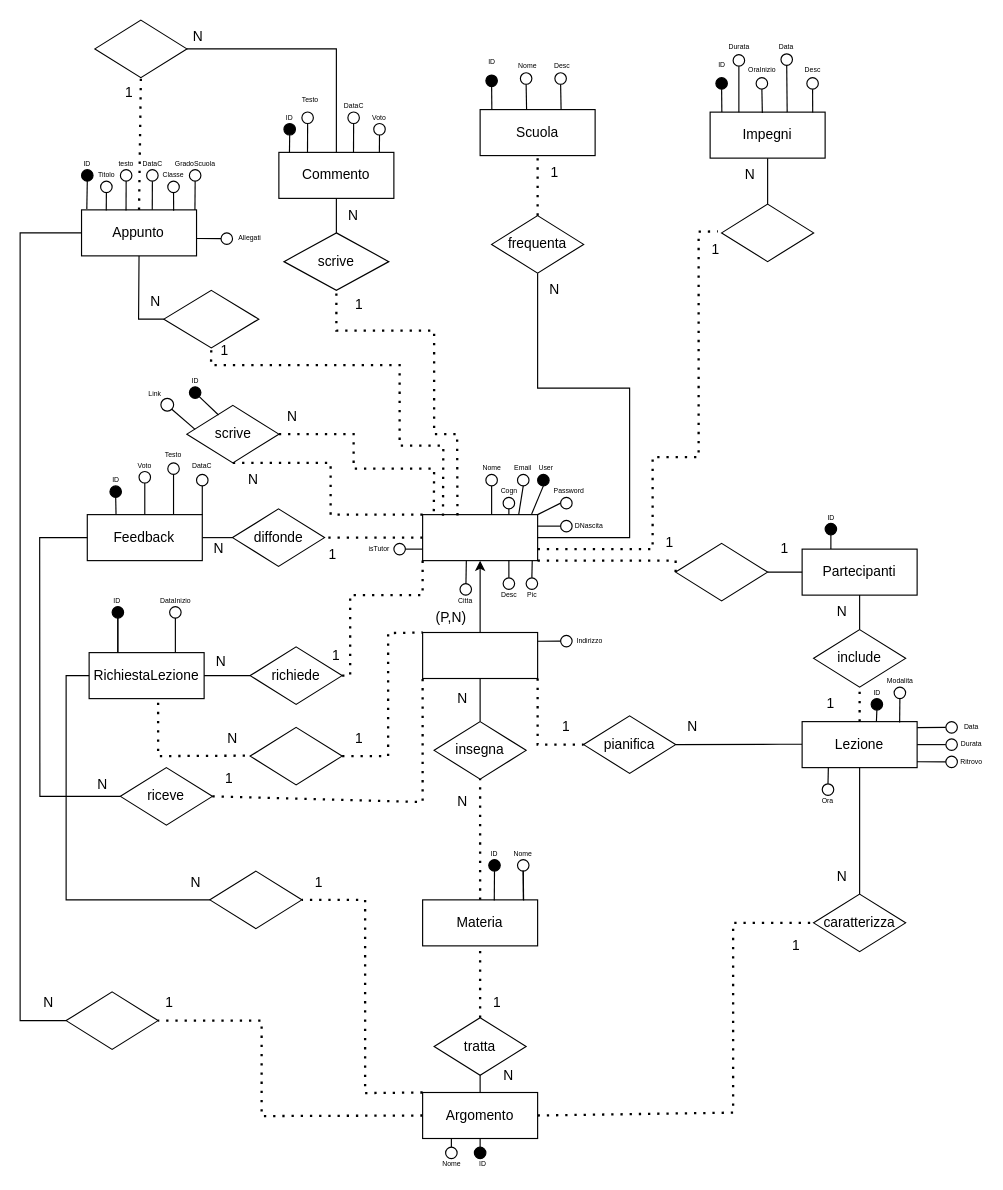
The diagram is 1003 pixels wide and 1190 high, and some of its shapes have lost their labels. Each missing label, with the centre of its shape:
"approvata" goes at (295,755).
"comprende" goes at (721,571).
"dedica" goes at (255,899).
"inserisce" goes at (767,232).
"prevede" goes at (140,48).
"pubblica" goes at (211,318).
"riguarda" goes at (111,1020).
"Tutor" goes at (479,654).
"Utente" goes at (479,537).
